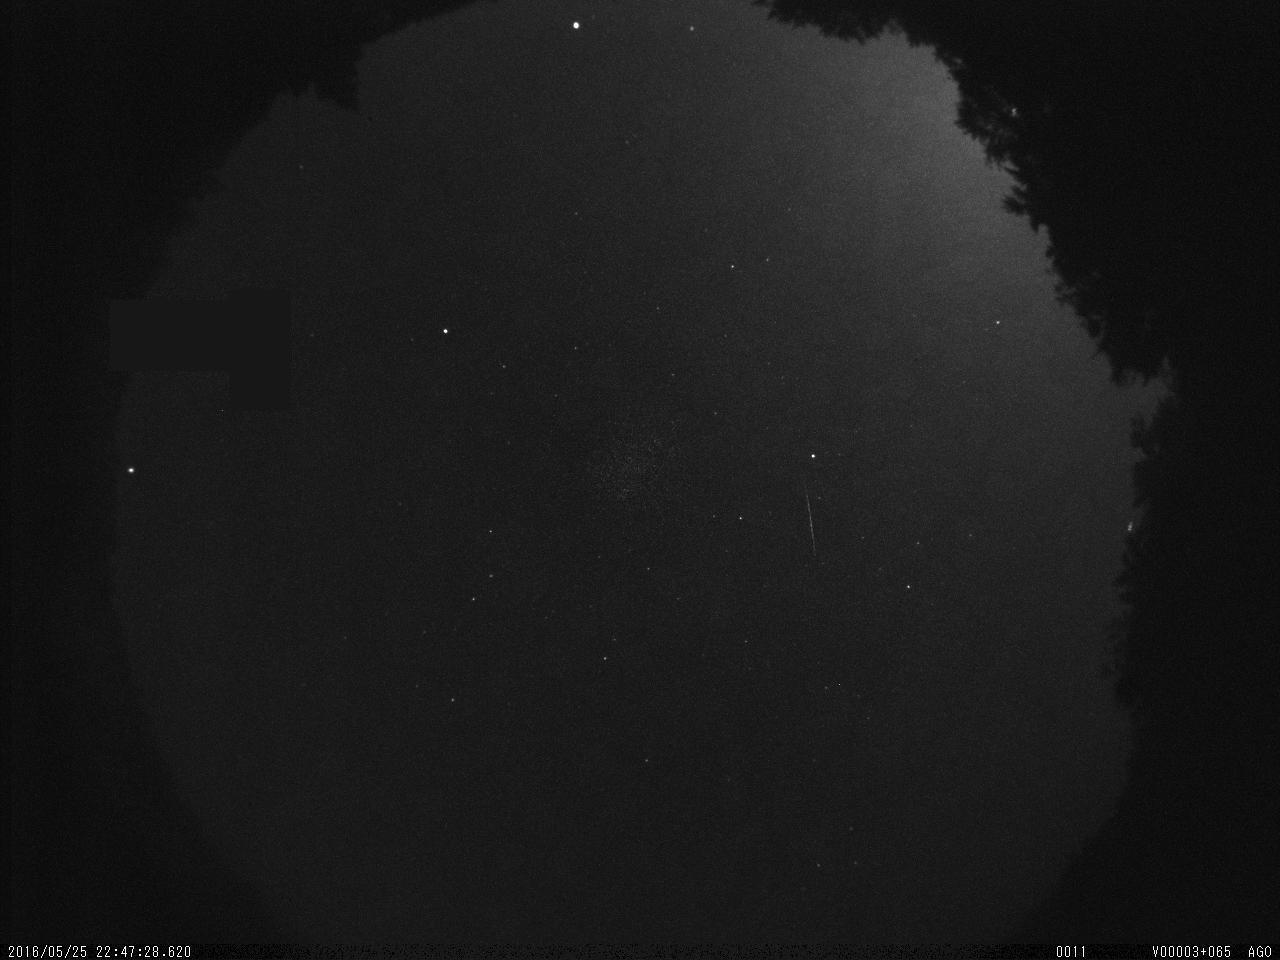meteor: (799, 479, 825, 567)
